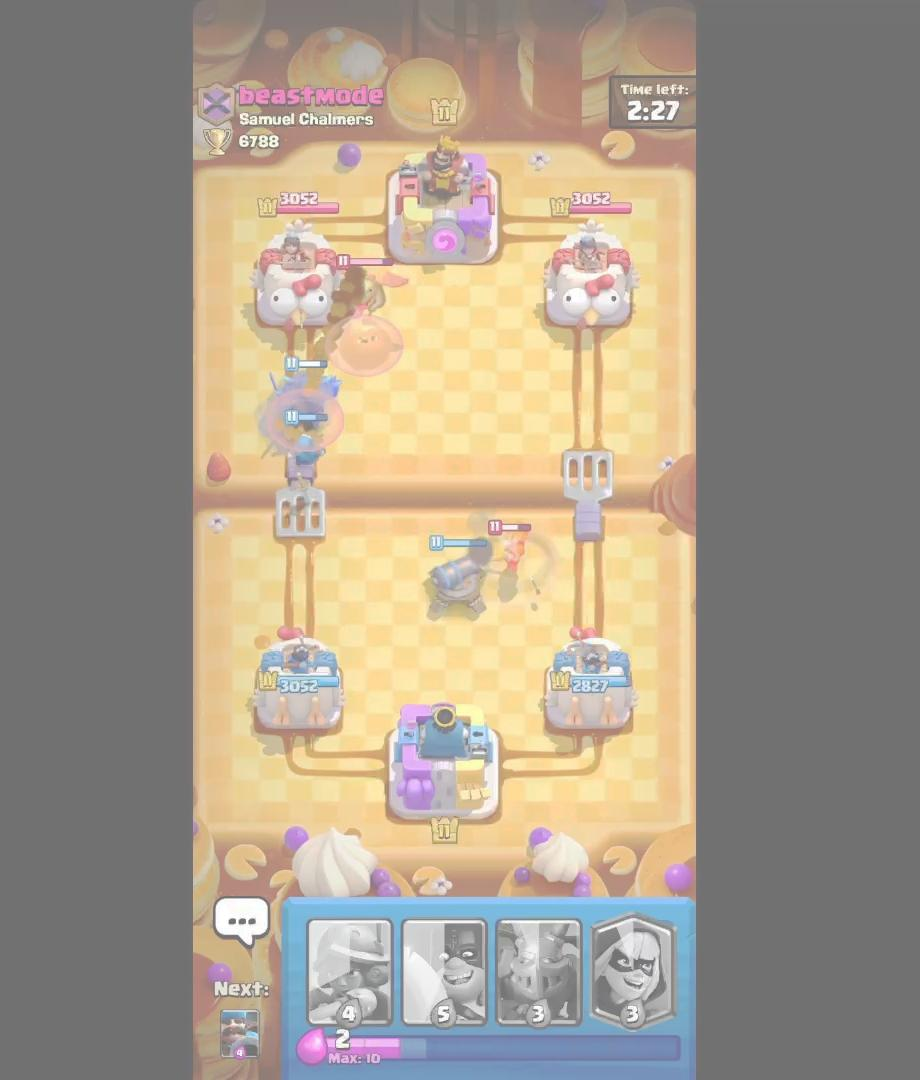Baby Dragon: (322, 249, 412, 336)
Valkyrie: (476, 514, 536, 581)
